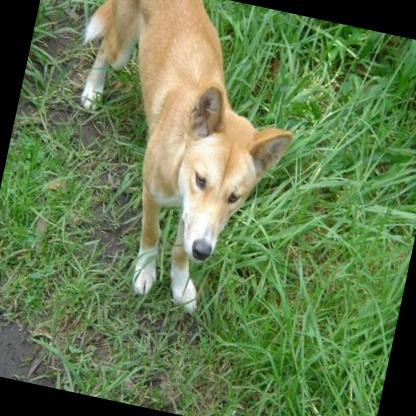dingo: (32, 0, 315, 321)
